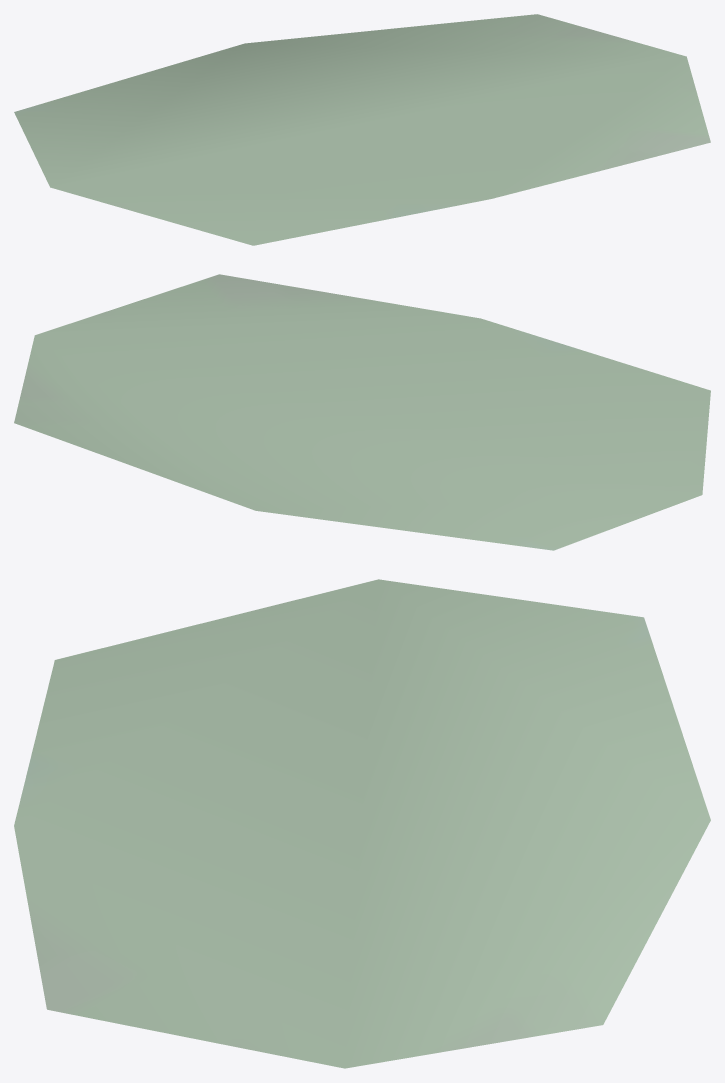
The model's file is TROLLHOLE02_HOLECAP217.fbx.
The picture shows the model from 3 angles, top to bottom: view 1: azimuth 30°, elevation 25°; view 2: azimuth 150°, elevation 25°; view 3: azimuth 270°, elevation 25°; orthographic projection. The views are drawn at different scales.
Visible parts, largest first — view 1: TROLLHOLE02_HOLECAP217; view 2: TROLLHOLE02_HOLECAP217; view 3: TROLLHOLE02_HOLECAP217.
Part boxes in pixels (left/top/right/bottom): TROLLHOLE02_HOLECAP217: left=14, top=14, right=710, bottom=245; TROLLHOLE02_HOLECAP217: left=14, top=274, right=710, bottom=550; TROLLHOLE02_HOLECAP217: left=14, top=579, right=710, bottom=1068.
Size of the model in its own units: 19801 by 514 by 12454.
1 material, 1 textured.
